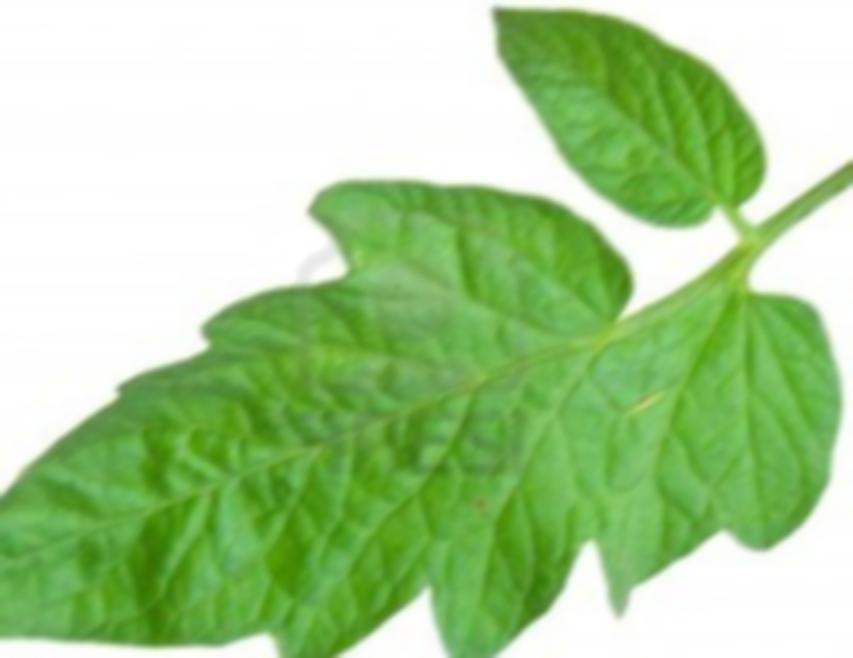Tomato leaf: (0, 175, 853, 658), (450, 0, 769, 229)
